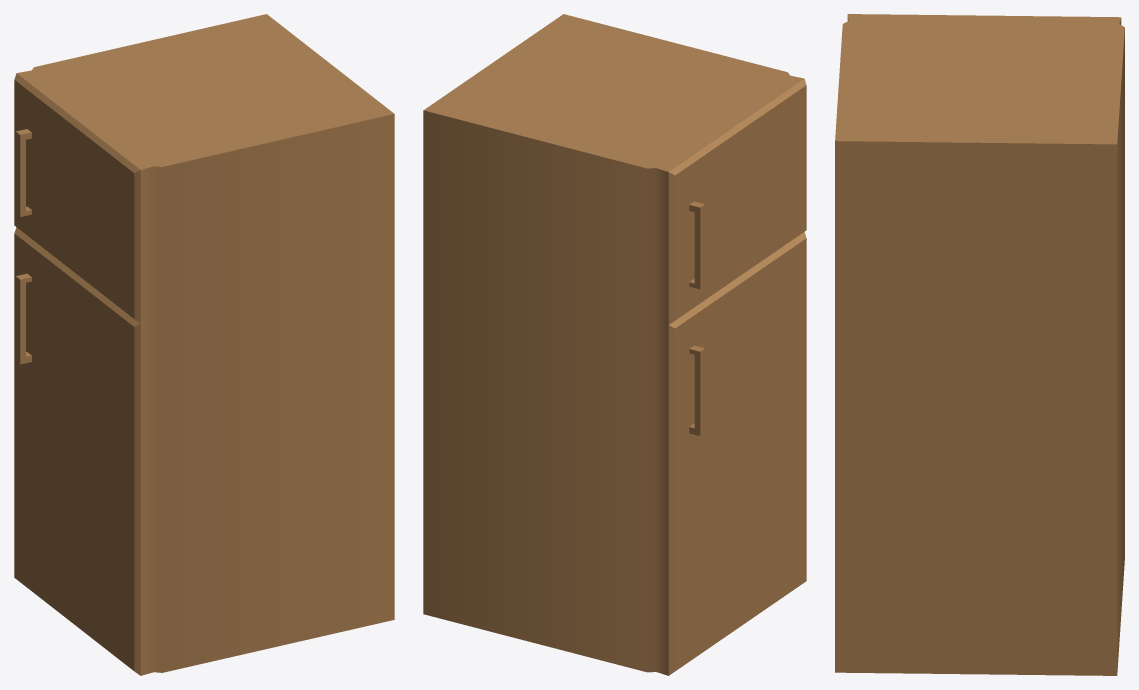
Rendered from Fridge 2.FBX.
3 views of the same model, side by side, from view 1: azimuth 30°, elevation 25°; view 2: azimuth 150°, elevation 25°; view 3: azimuth 270°, elevation 25° (orthographic). The views are drawn at different scales.
Parts seen in each view (by area): view 1: Fridge 02; view 2: Fridge 02; view 3: Fridge 02.
Part boxes in pixels (bbox=[...]): Fridge 02: bbox=[14, 14, 394, 675]; Fridge 02: bbox=[423, 14, 806, 675]; Fridge 02: bbox=[835, 14, 1124, 675].
Bounding box in the file's own units: 1.43 × 2.6 × 1.29.
